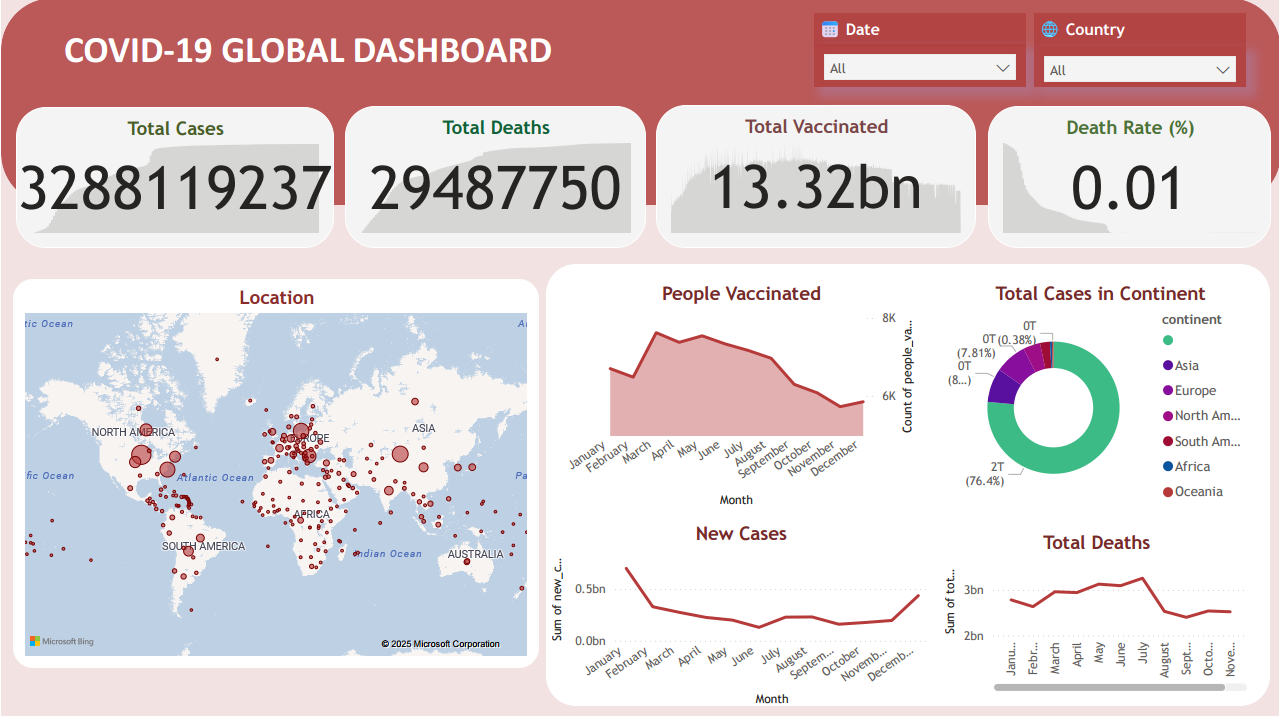

The dashboard page shown, as its layout file describes it:
{"tool":"powerbi","page":{"name":"Page 1","canvas":[1280,720],"ordinal":0},"visuals":[{"type":"shape","box":[544.6,266.2,724.3,441.9],"z":0,"group":"g2"},{"type":"shape","box":[12.2,281.1,525.7,389.2],"z":0,"group":"g3"},{"type":"kpi","title":"Total Cases","fields":{"Indicator":["Covid 19.Total Cases"],"TrendLine":["Covid 19.date"]},"box":[14.9,109.2,317.9,140.6],"z":1000,"group":"g1"},{"type":"shape","box":[0,0,1279.7,206.8],"z":2000},{"type":"kpi","title":"Total Deaths","fields":{"Indicator":["Covid 19.Total Deaths"],"TrendLine":["Covid 19.date"]},"box":[343.7,108.2,301.4,141.4],"z":2000,"group":"g1"},{"type":"map","title":" Location","fields":{"Category":["Covid 19.location"],"Size":["Sum(Covid 19.total_cases)"]},"box":[12.2,281.1,525.7,389.2],"z":2000,"group":"g3"},{"type":"group","id":"g1","title":"Group 2","box":[14.9,106.8,1254.1,143.2],"z":3000},{"type":"kpi","title":"Total Vaccinated","fields":{"Indicator":["Covid 19.Total Vaccinated"],"TrendLine":["Covid 19.date"]},"box":[655.1,106.8,320,142.9],"z":3000,"group":"g1"},{"type":"textbox","box":[58.1,23,516.2,66.2],"z":4000},{"type":"kpi","title":"Death Rate (%)","fields":{"Indicator":["Covid 19.Death Rate (%)"],"TrendLine":["Covid 19.date"]},"box":[986.5,108.2,282.9,141.4],"z":4000,"group":"g1"},{"type":"donutChart","title":"Total Cases in Continent","fields":{"Y":["Covid 19.Total Cases"],"Category":["Covid 19.continent"]},"box":[928.2,274.1,340.7,248.7],"z":4000,"group":"g2"},{"type":"group","id":"g2","title":"Group 3","box":[544.6,266.2,724.3,441.9],"z":5000},{"type":"lineChart","title":"New Cases","fields":{"Category":["Covid 19.date.Variation.Date Hierarchy.Year","Covid 19.date.Variation.Date Hierarchy.Quarter","Covid 19.date.Variation.Date Hierarchy.Month","Covid 19.date.Variation.Date Hierarchy.Day"],"Y":["Sum(Covid 19.new_cases)"]},"box":[550,522.9,378.3,185.2],"z":5000,"group":"g2"},{"type":"areaChart","title":"People Vaccinated","fields":{"Category":["Covid 19.date.Variation.Date Hierarchy.Year","Covid 19.date.Variation.Date Hierarchy.Quarter","Covid 19.date.Variation.Date Hierarchy.Month","Covid 19.date.Variation.Date Hierarchy.Day"],"Y2":["CountNonNull(Covid 19.people_vaccinated)"]},"box":[550,274.1,378.3,248.7],"z":6000,"group":"g2"},{"type":"group","id":"g3","title":"Group 4","box":[12.2,281.1,525.7,389.2],"z":6000},{"type":"lineChart","title":"Total Deaths","fields":{"Category":["Covid 19.date.Variation.Date Hierarchy.Year","Covid 19.date.Variation.Date Hierarchy.Quarter","Covid 19.date.Variation.Date Hierarchy.Month","Covid 19.date.Variation.Date Hierarchy.Day"],"Y":["Sum(Covid 19.total_deaths)"]},"box":[928.2,522.9,332.7,185.2],"z":7000,"group":"g2"},{"type":"textbox","box":[1032.5,14.9,212.9,32.9],"z":8500},{"type":"textbox","box":[813.4,14.9,211.4,34.3],"z":9000},{"type":"slicer","fields":{"Values":["Covid 19.Month"]},"box":[813.4,46.3,211.4,42.9],"z":9500},{"type":"slicer","fields":{"Values":["Covid 19.location"]},"box":[1032.5,47.7,212.9,41.4],"z":10000}]}

Visuals, with their boxes in screenshot pixels (x1, y1, x2, y2), scaled from the page's 1280x720 canvas onto the 1279x716 screenshot:
shape: select_region(544, 265, 1268, 704)
shape: select_region(12, 280, 537, 667)
"Total Cases" kpi: select_region(15, 109, 333, 248)
shape: select_region(0, 0, 1278, 206)
"Total Deaths" kpi: select_region(343, 108, 645, 248)
" Location" map: select_region(12, 280, 537, 667)
"Group 2" group: select_region(15, 106, 1268, 249)
"Total Vaccinated" kpi: select_region(655, 106, 974, 248)
textbox: select_region(58, 23, 574, 89)
"Death Rate (%)" kpi: select_region(986, 108, 1268, 248)
"Total Cases in Continent" donutChart: select_region(927, 273, 1268, 520)
"Group 3" group: select_region(544, 265, 1268, 704)
"New Cases" lineChart: select_region(550, 520, 928, 704)
"People Vaccinated" areaChart: select_region(550, 273, 928, 520)
"Group 4" group: select_region(12, 280, 537, 667)
"Total Deaths" lineChart: select_region(927, 520, 1260, 704)
textbox: select_region(1032, 15, 1244, 48)
textbox: select_region(813, 15, 1024, 49)
slicer - Covid 19.Month: select_region(813, 46, 1024, 89)
slicer - Covid 19.location: select_region(1032, 47, 1244, 89)
